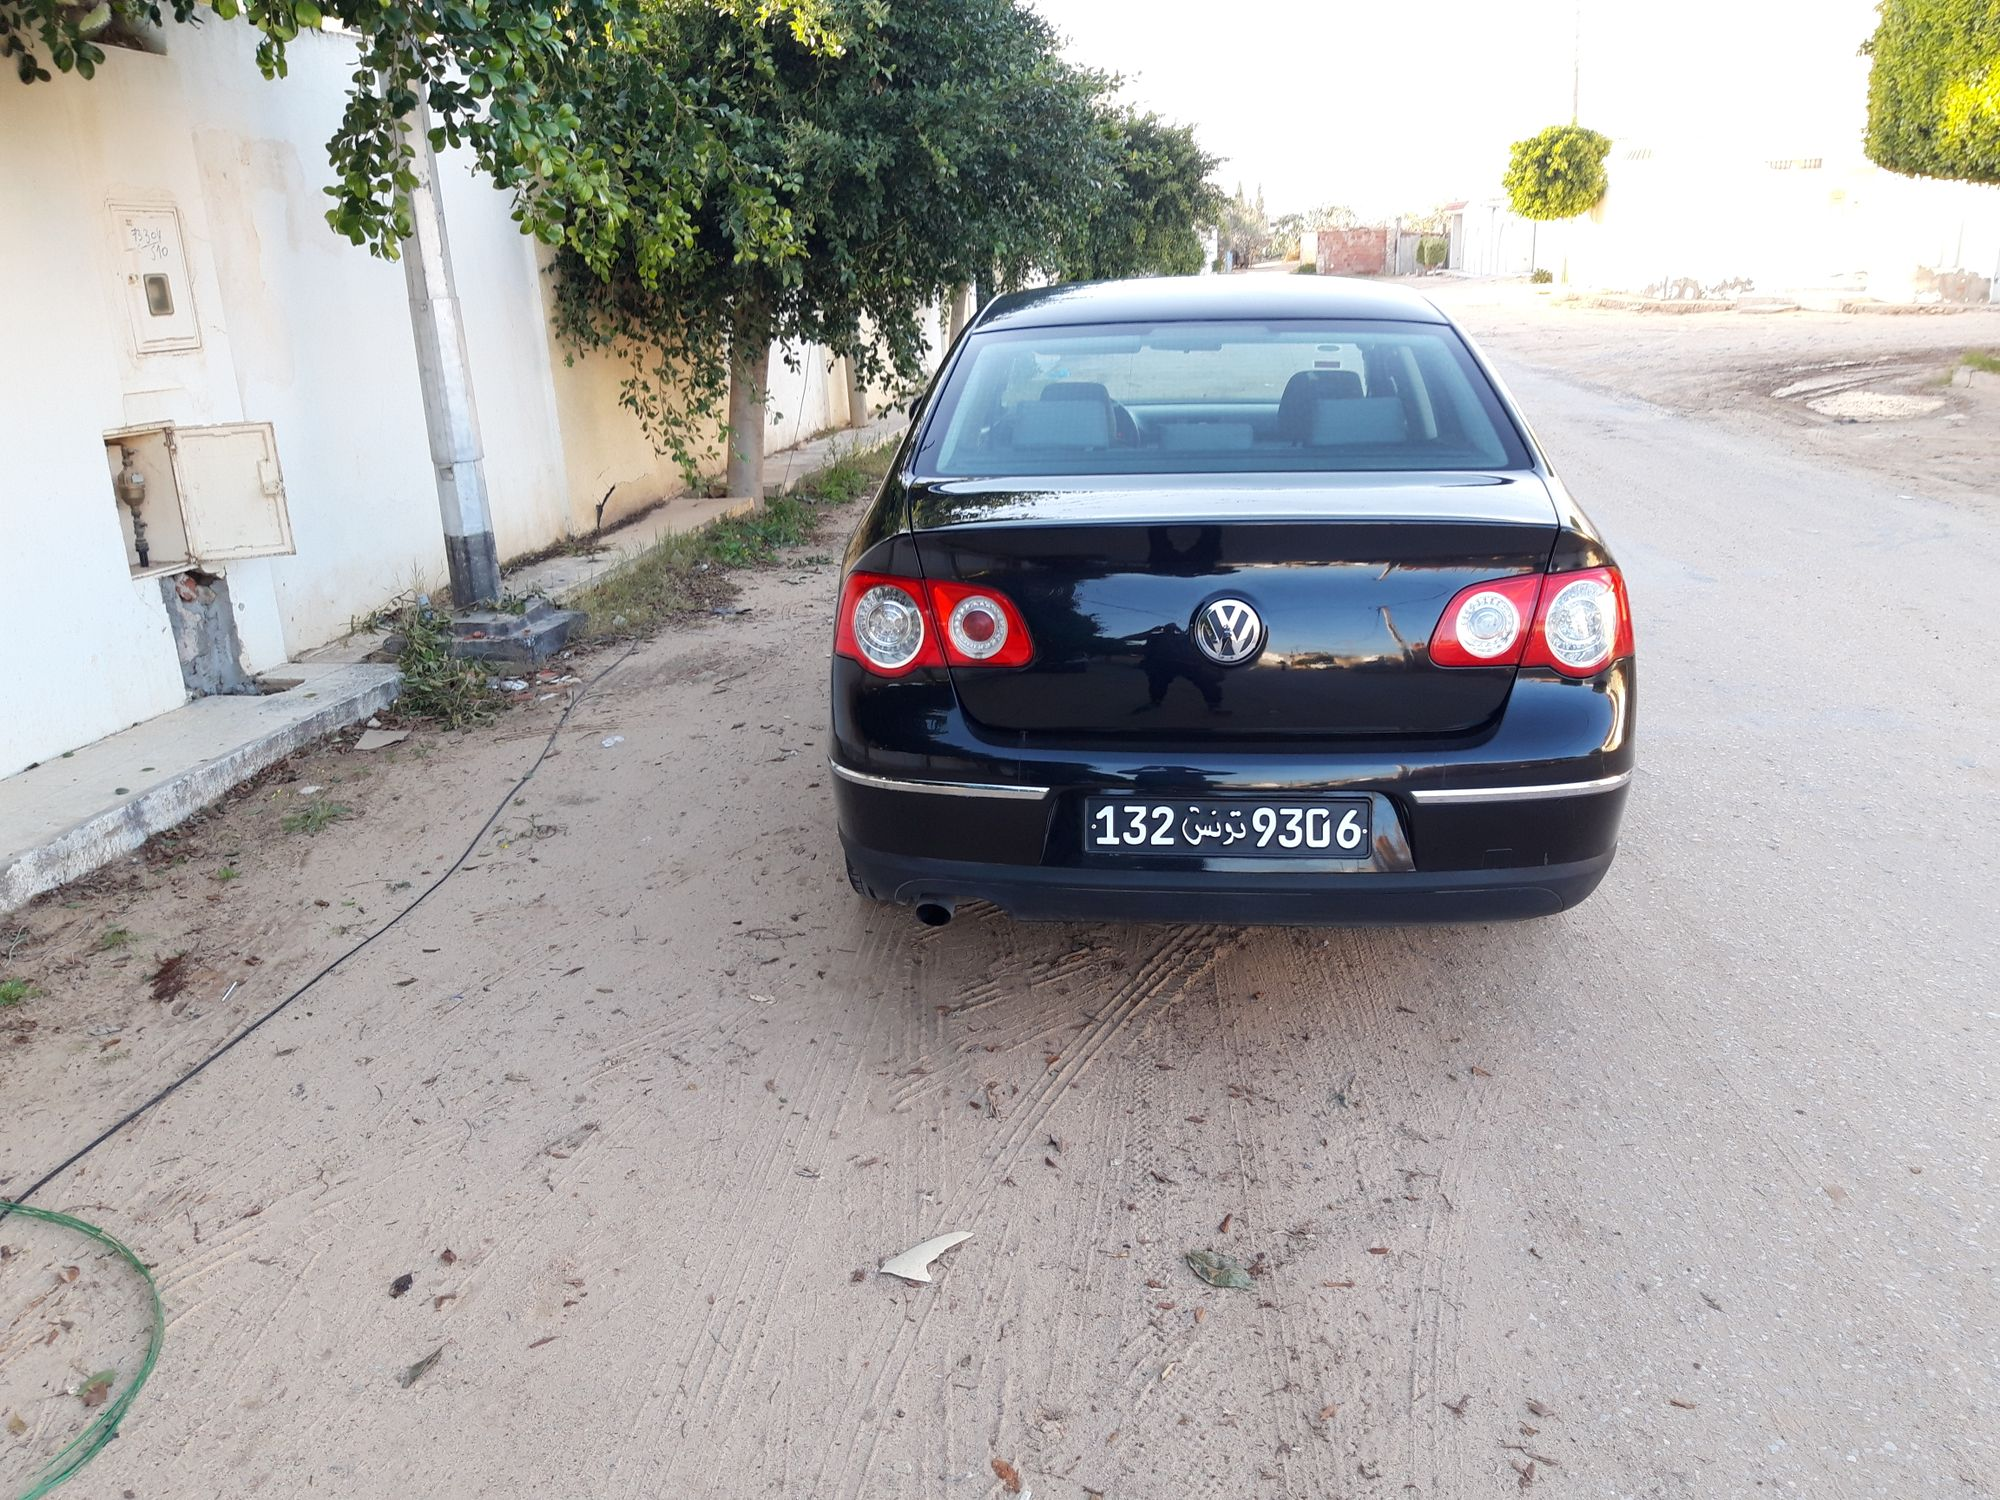LP: (1080, 791, 1381, 865)
